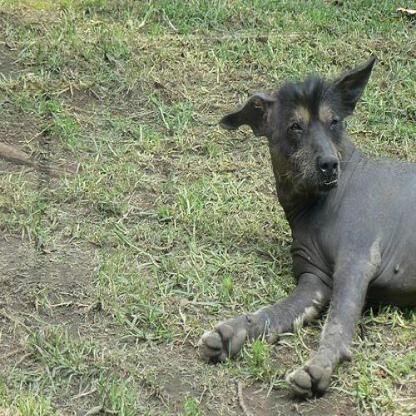Mexican_hairless: (196, 51, 414, 396)
